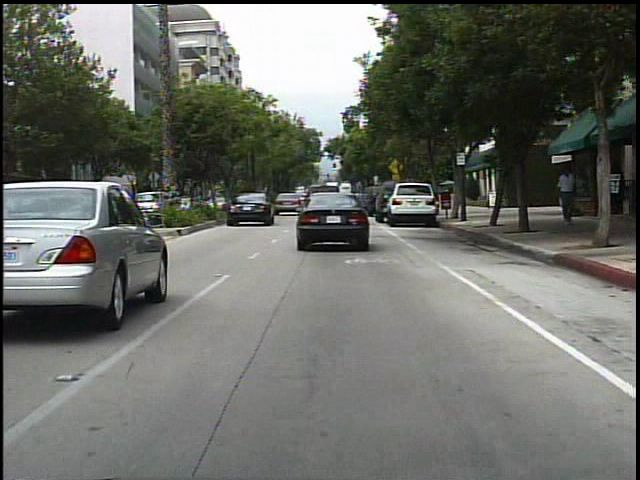person: (553, 164, 581, 229)
